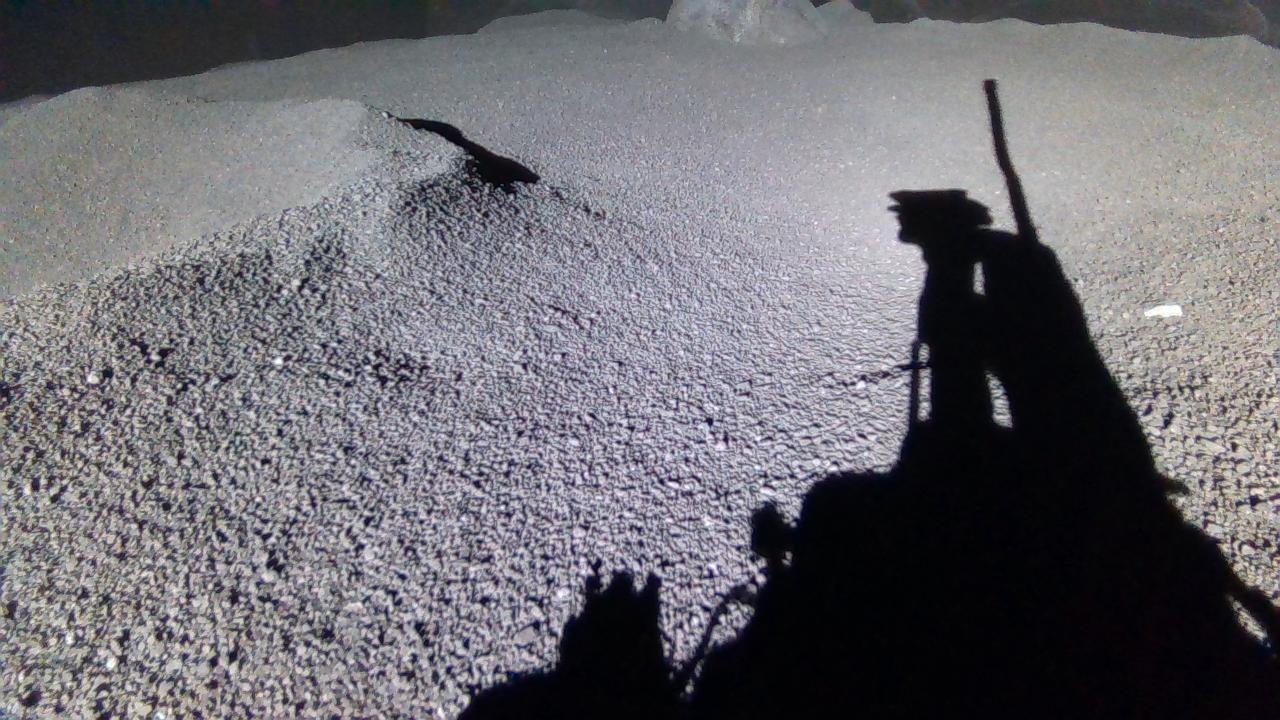rock: (667, 0, 823, 42)
